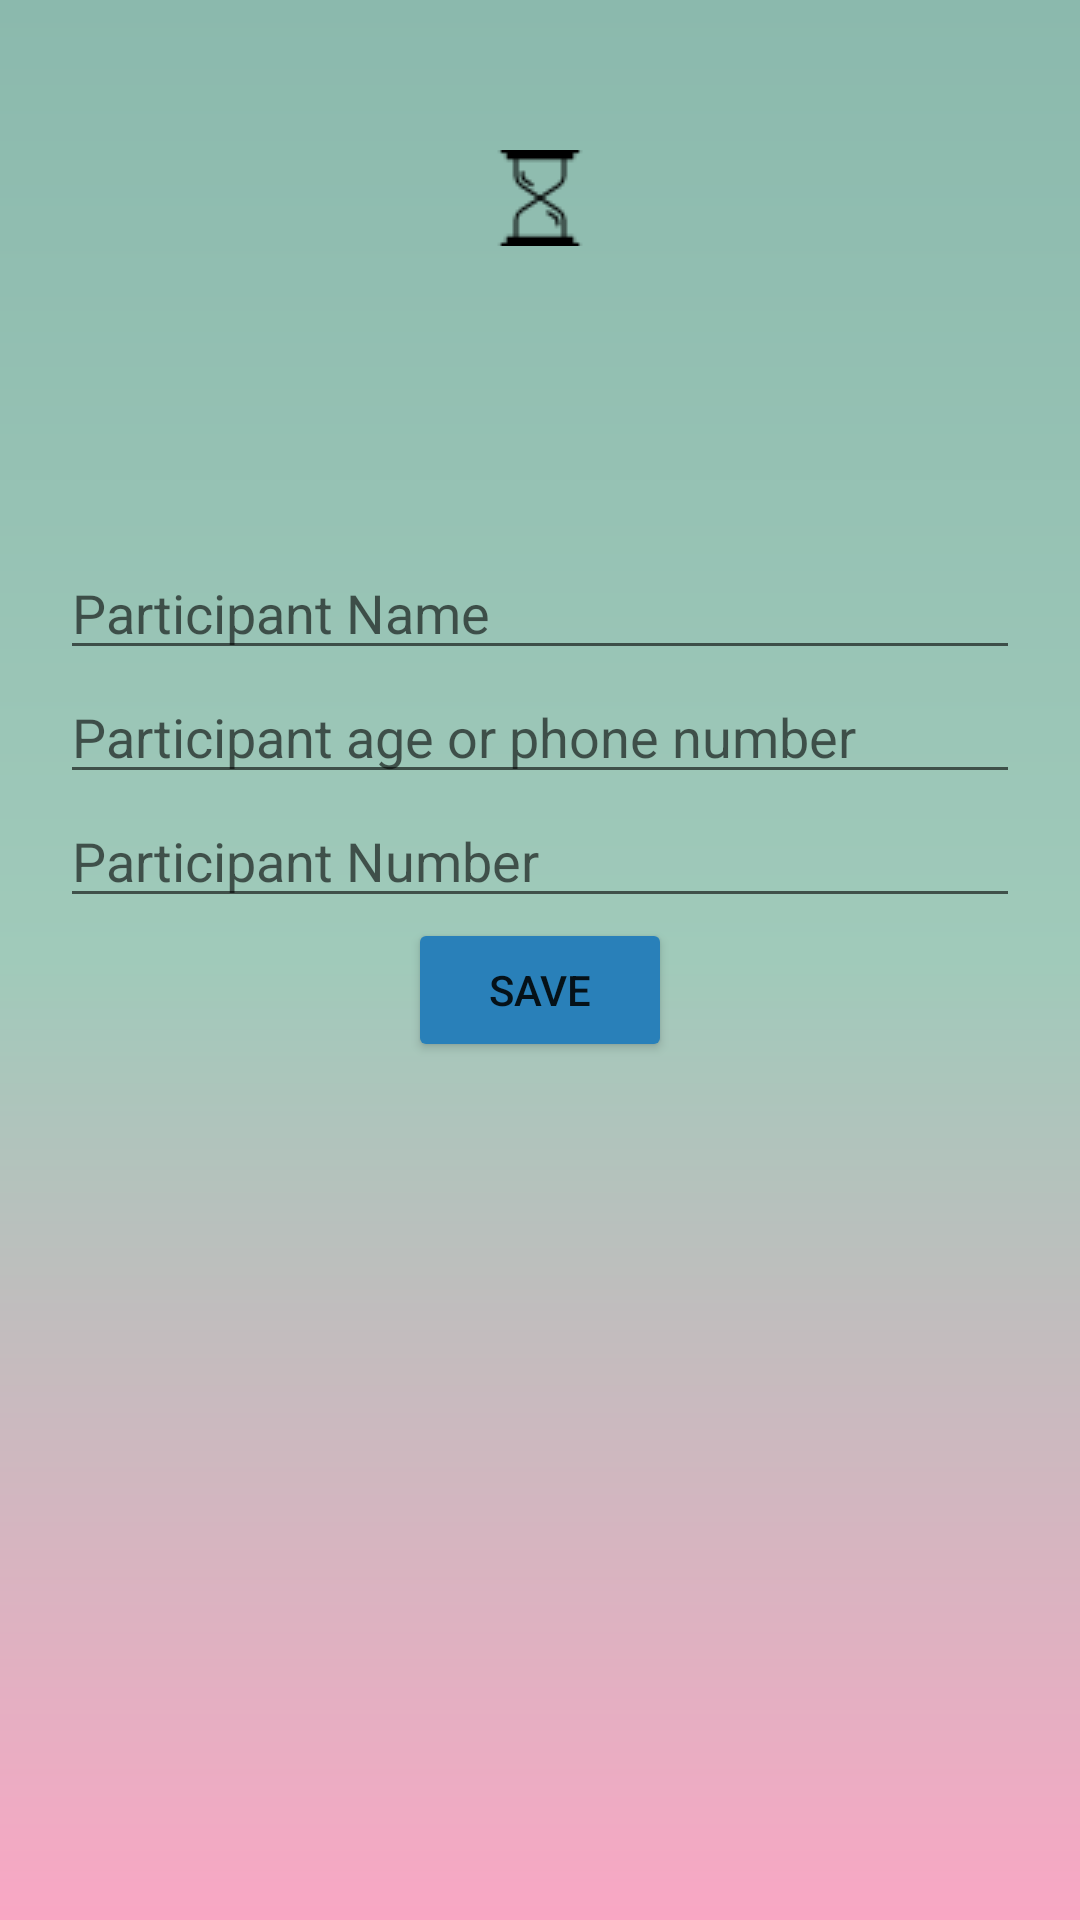

Icon bounding boxes for this 1080x1920 phone screenshot, format [left=x1, top=y1, right=x2, bottom=y2]:
wait: [left=500, top=150, right=580, bottom=246]
